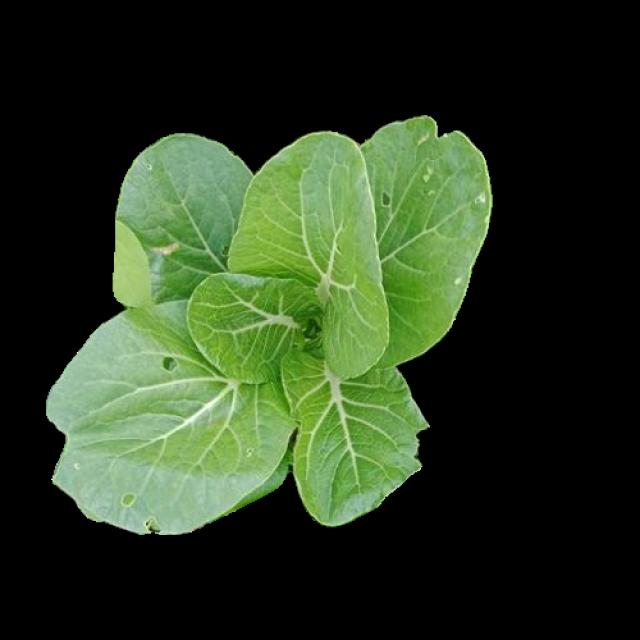mature: (49, 118, 489, 536)
unhealthy: (49, 300, 293, 534), (362, 120, 490, 366), (280, 353, 426, 528), (110, 128, 250, 296)
